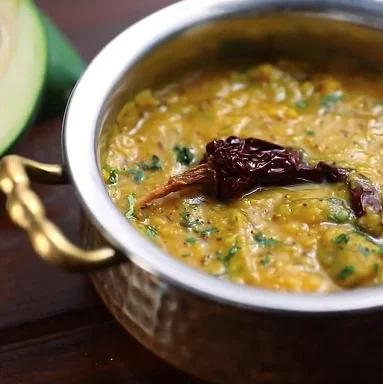dal: (101, 44, 383, 296)
